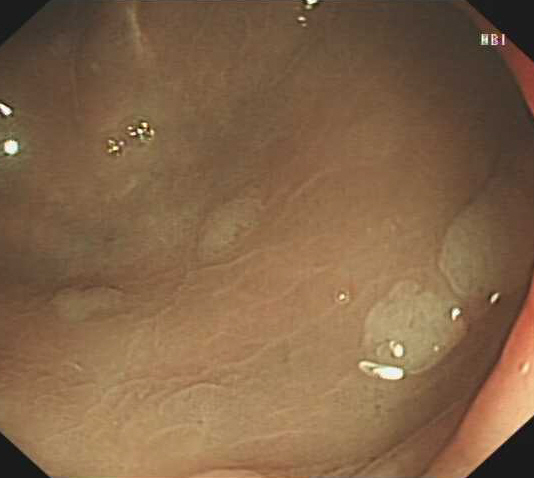others: (433, 174, 534, 301), (360, 277, 469, 380), (193, 186, 264, 264), (47, 283, 125, 325)
